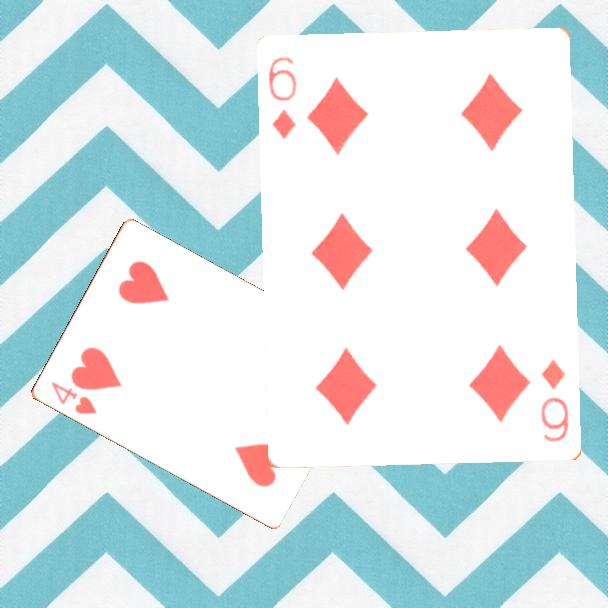d06: (537, 356, 572, 446), (266, 54, 300, 142)
h04: (47, 378, 99, 417)
